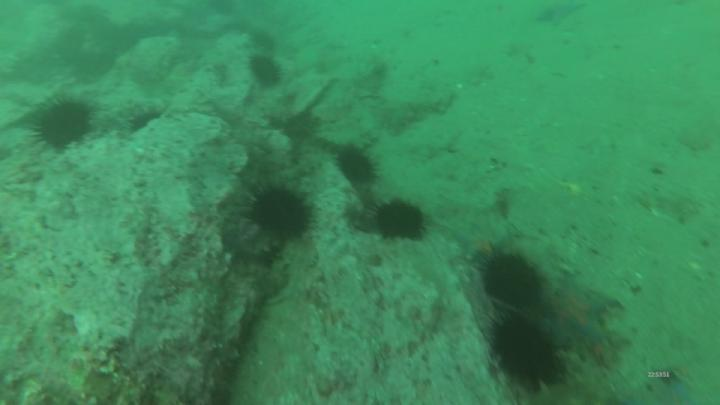echinus: (492, 316, 554, 378), (488, 257, 538, 307), (37, 102, 92, 144), (254, 190, 306, 232), (379, 203, 424, 237), (340, 148, 374, 186), (254, 58, 278, 84)
starfish: (551, 281, 607, 339), (461, 221, 505, 259), (651, 366, 693, 404)
